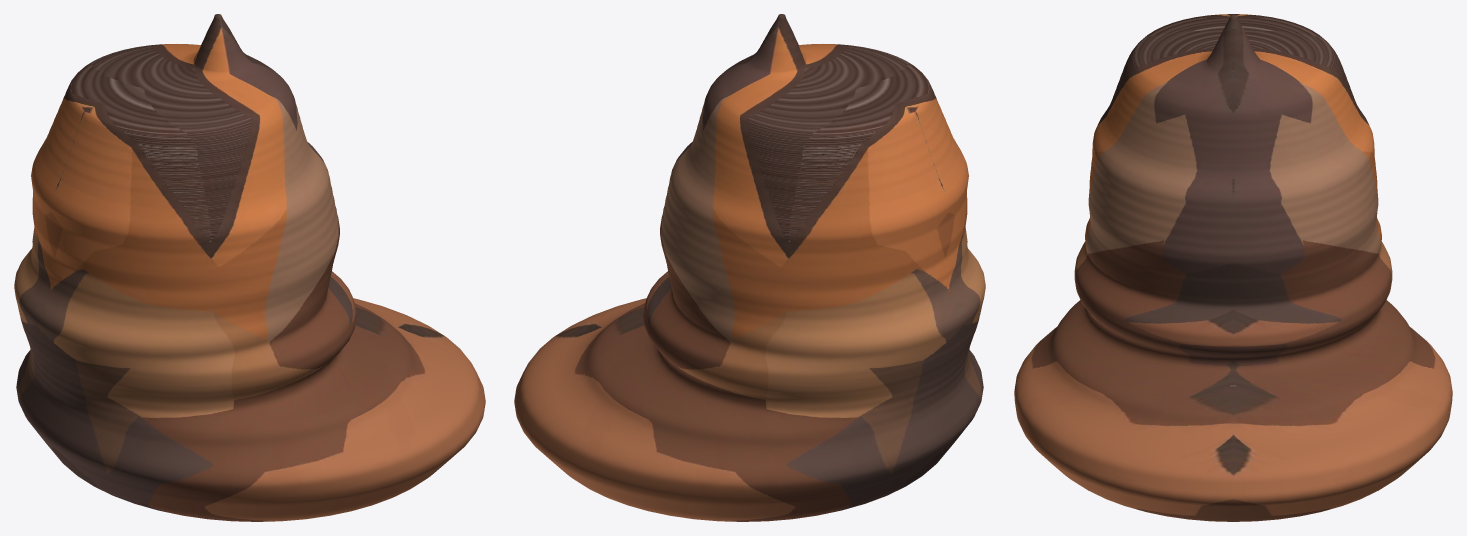
Rendered from amber_crystals.glb.
3 views of the same model, side by side, from view 1: azimuth 30°, elevation 25°; view 2: azimuth 150°, elevation 25°; view 3: azimuth 270°, elevation 25° (orthographic). The views are drawn at different scales.
Parts seen in each view (by area): view 1: amber_crystals; view 2: amber_crystals; view 3: amber_crystals.
Boxes of the visible parts, x1,y1,x2,y2 form: amber_crystals: (14, 14, 485, 521); amber_crystals: (514, 14, 985, 521); amber_crystals: (1014, 14, 1452, 521).
Bounding box in the file's own units: 0.993 × 1.07 × 0.9498.
1 material, 1 textured.
